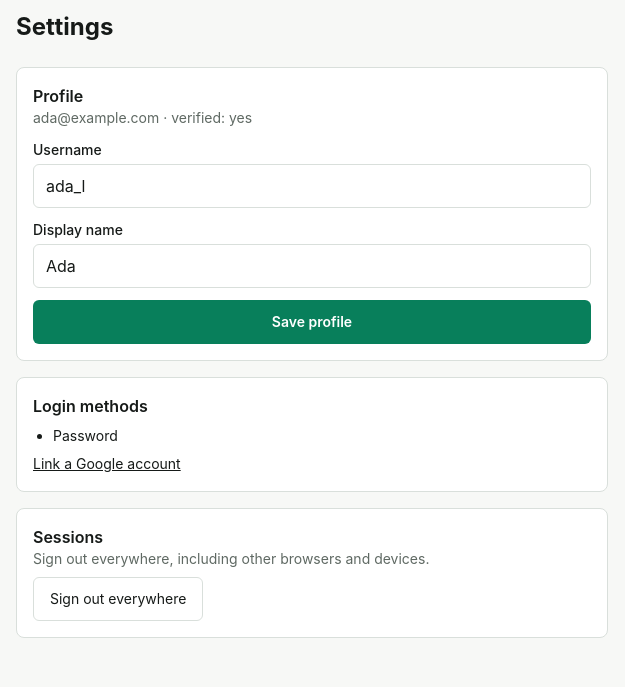
Test: settings page › saves profile and shows login methods
Expected: the list item "Password" is shown, [53, 427, 118, 444]
Replace the text in the field labelled "Display name" with "Ada L" at [312, 266], box [33, 244, 591, 288]
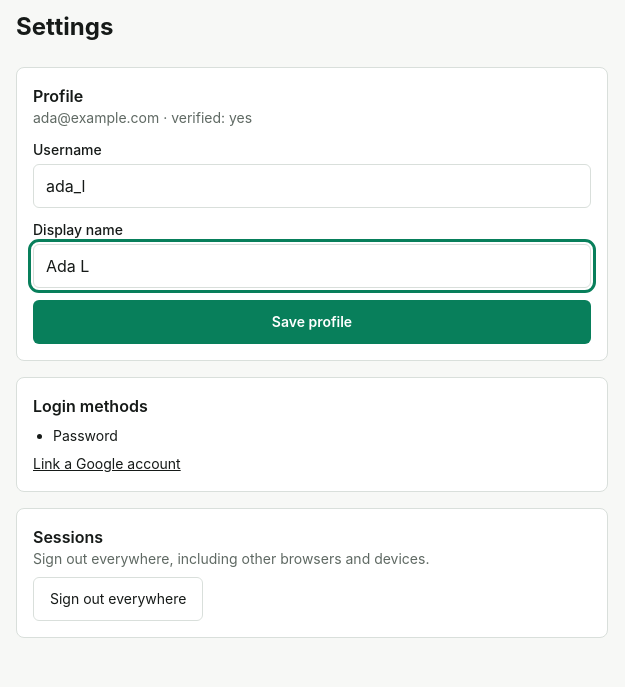
Click the button "Save profile" at [312, 322], box [33, 300, 591, 344]
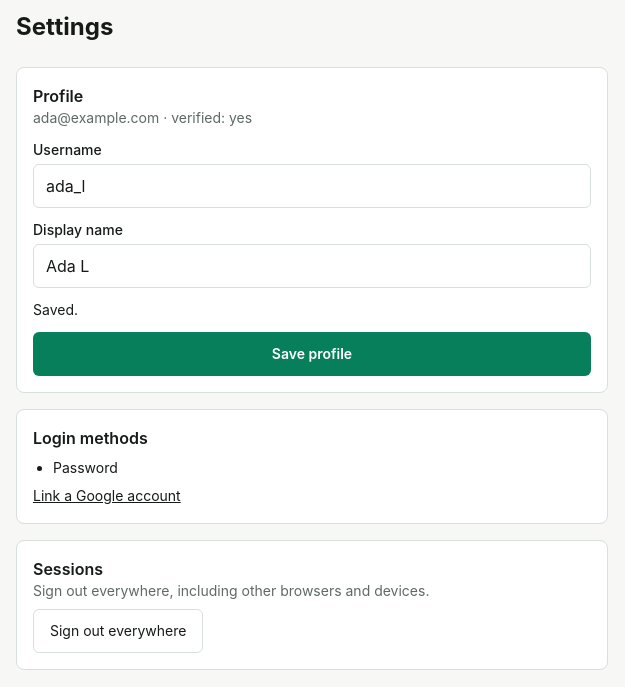
Expected: the text "Saved." is shown, [33, 301, 78, 318]
